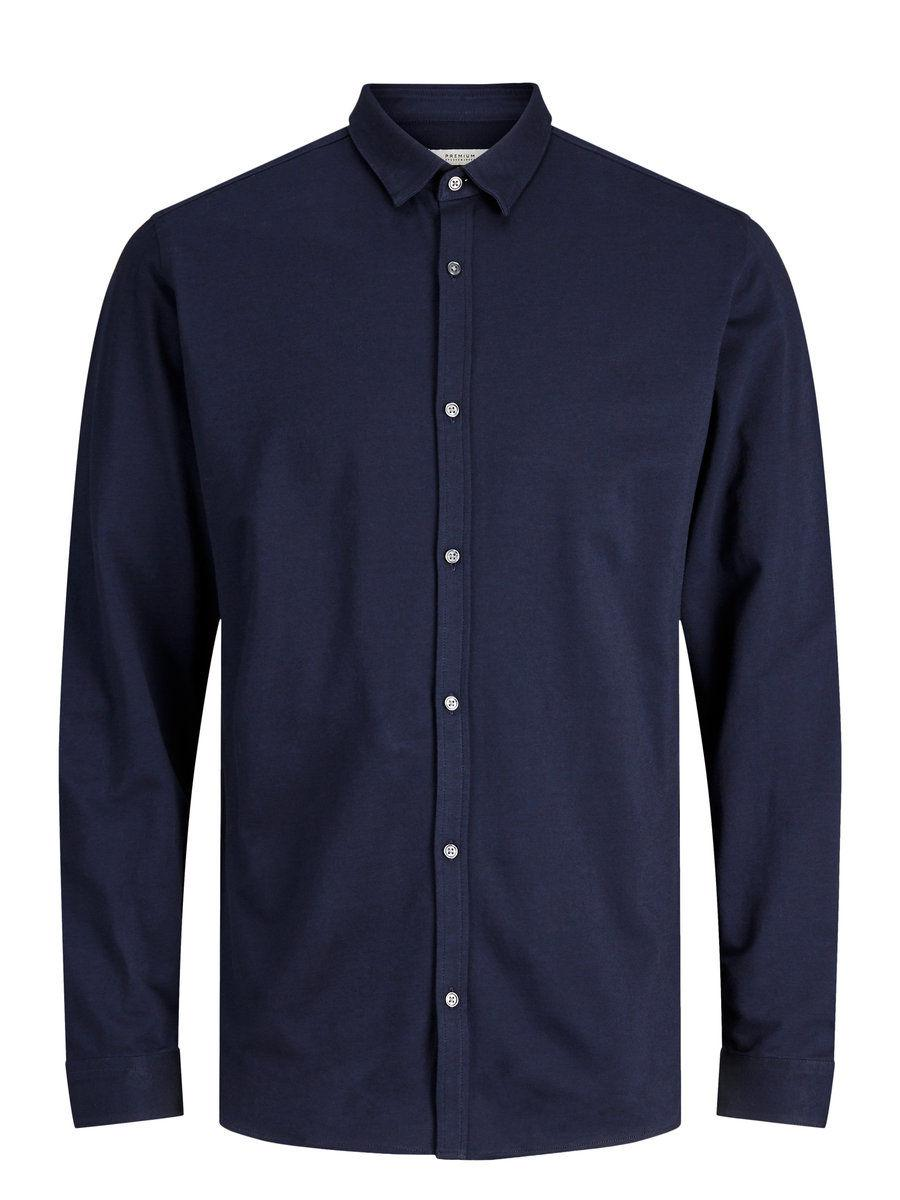teeshirt: (47, 78, 854, 1167)
